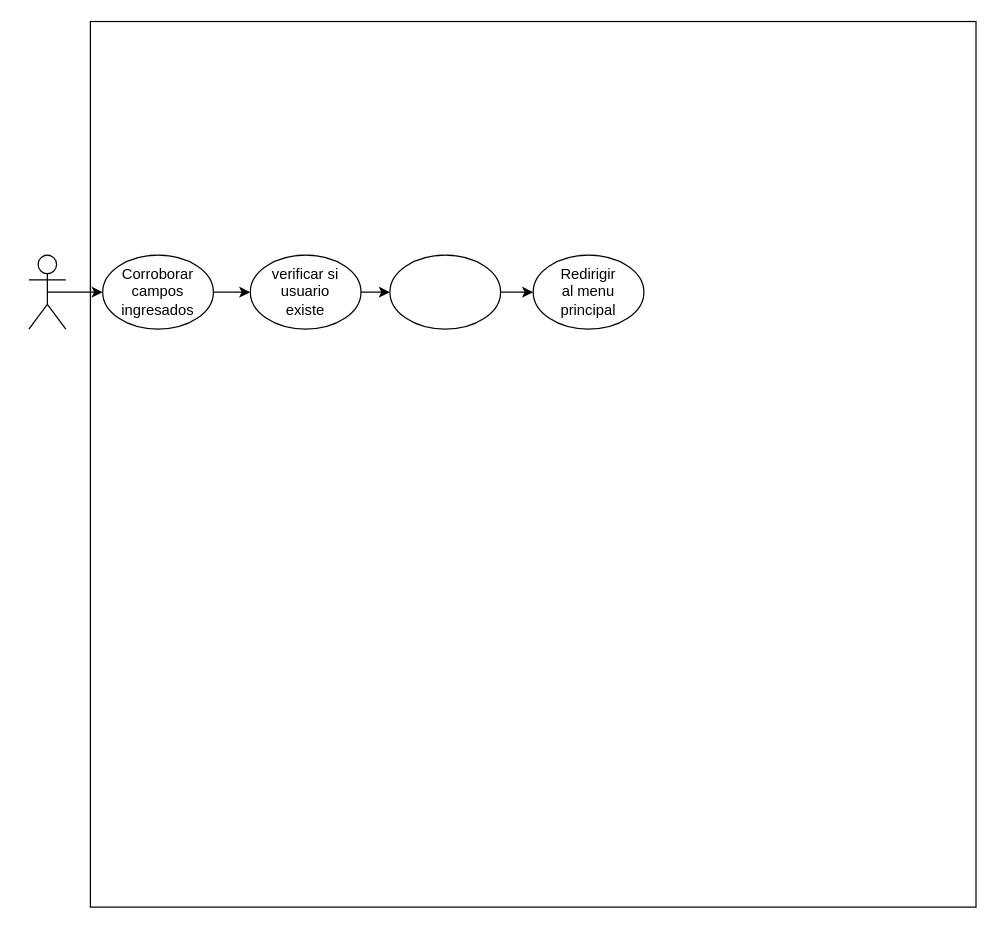
Image size: 998x929. Some labels were removed from this diagram. The centre of each missing label's shape, as x and y in pixels:
otorgar permisos al usuario: point (445, 291)
Sistema: point (47, 291)
